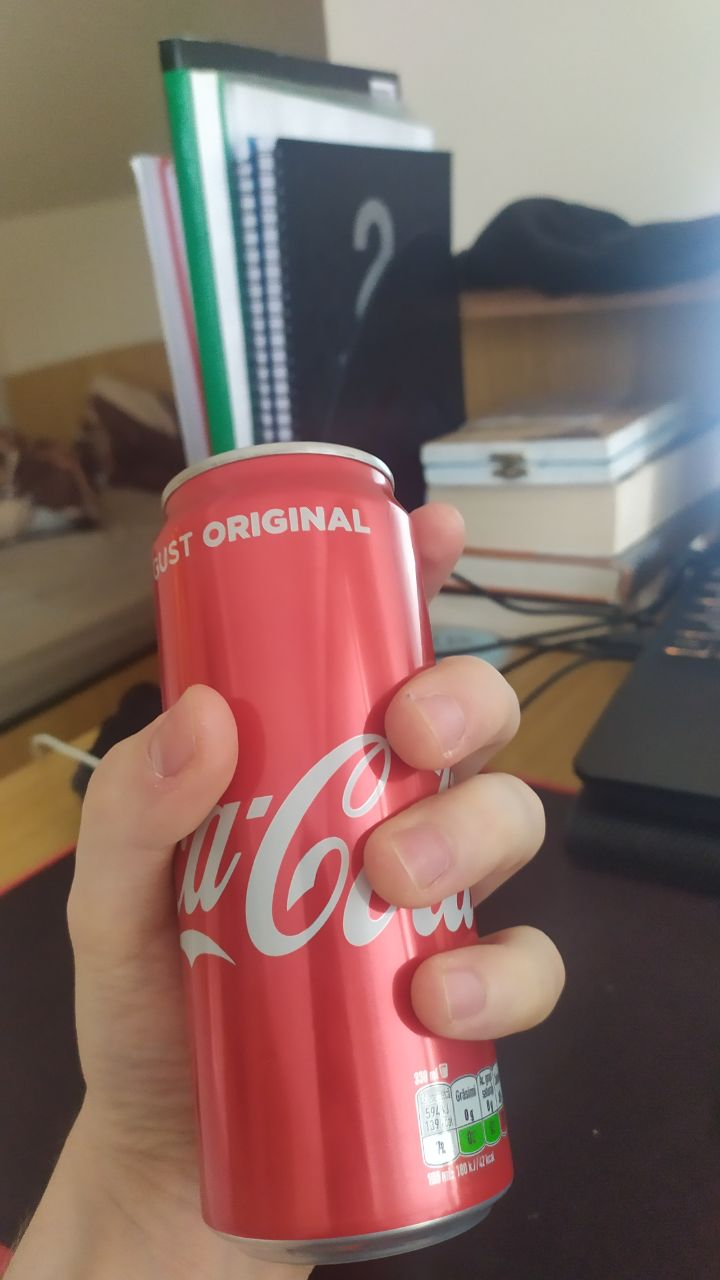Can: (139, 436, 521, 1260)
